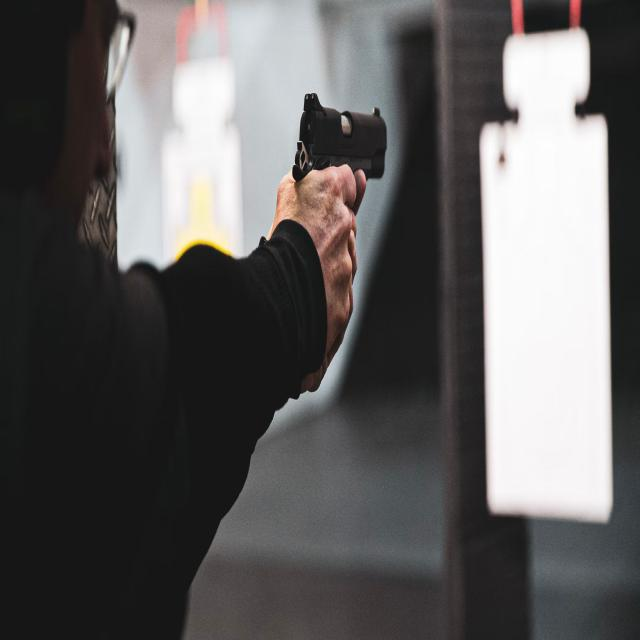HandGun: (286, 84, 390, 220)
